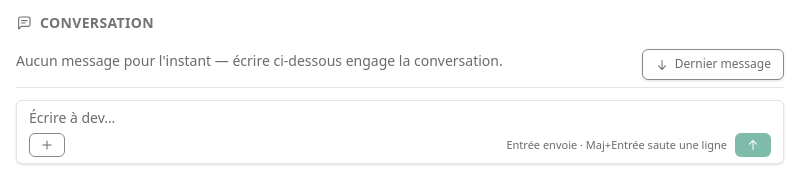
Test: le geste « Dernier message » sur l'onglet Chat d'une fiche agent › ② l'envoi d'un message le retire lui aussi
Check: the button "Dernier message" is shown, box left=642, top=49, right=784, bottom=80
Type "Où en es-tu ?" into the text box named "Message à dev". click: (400, 118)
box: left=29, top=107, right=771, bottom=129
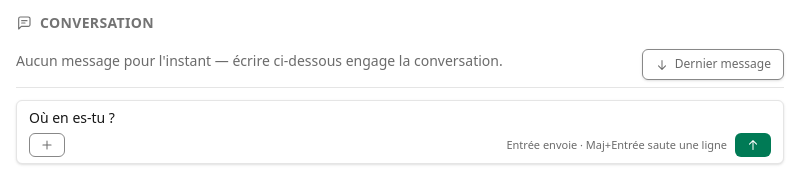
Submit the form named "Message à dev", box left=16, top=87, right=784, bottom=172
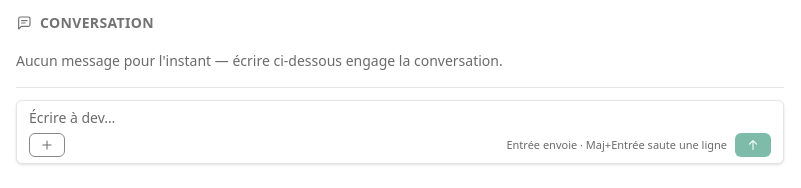
Check: the button "Dernier message" is gone
